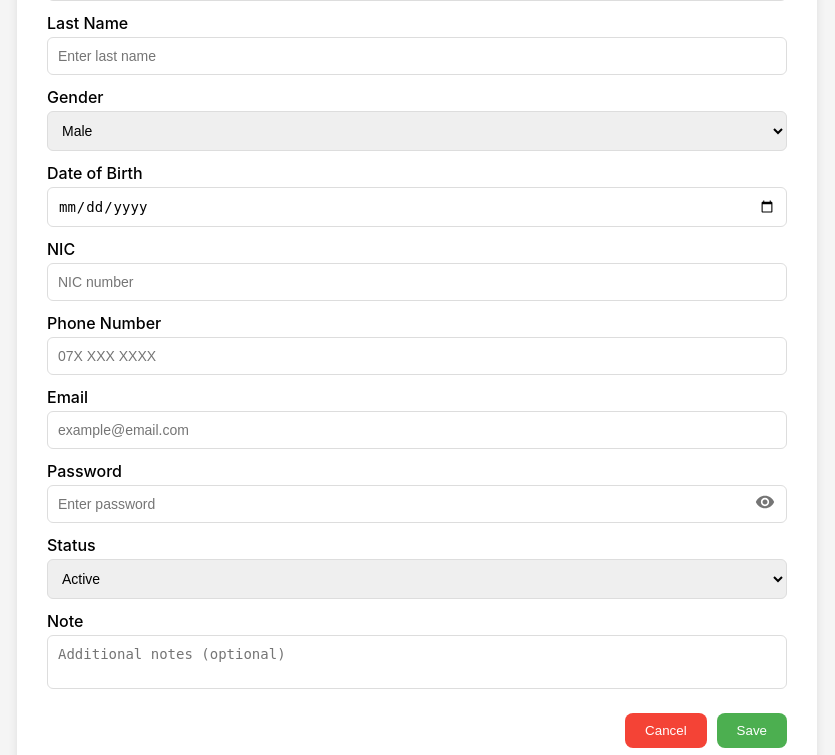
Test: NewManager Component › shows validation errors when required fields are empty
(page scrolled)
What coordinates should you click on to do the following:
click the button "Save"
I would click on:
 (752, 730)
Its box is [717, 713, 787, 748].
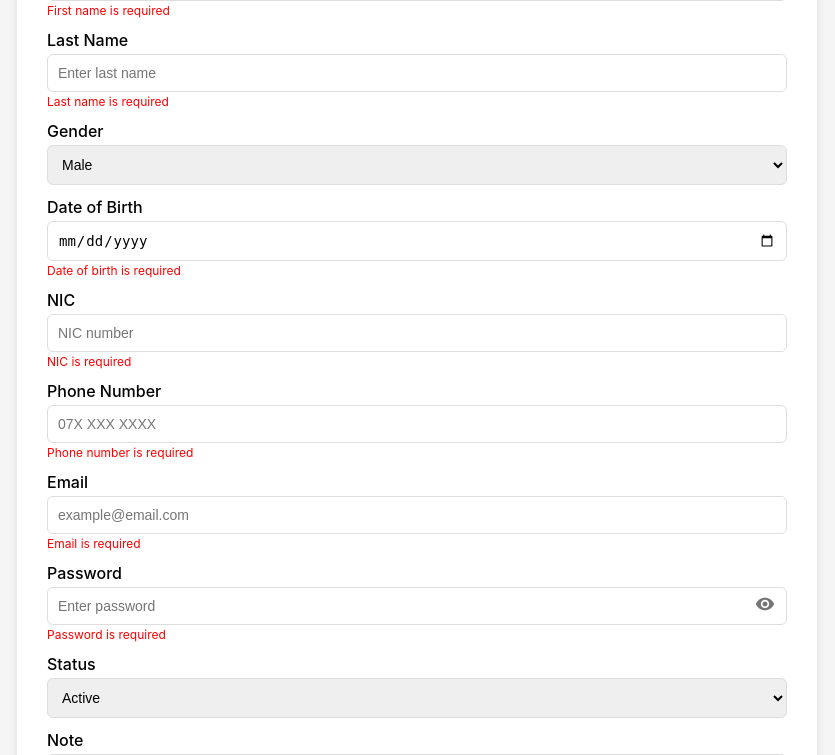
Expected: the text "Email is required" is shown, [47, 536, 141, 551]
Expected: the text "Password is required" is shown, [47, 627, 166, 642]
